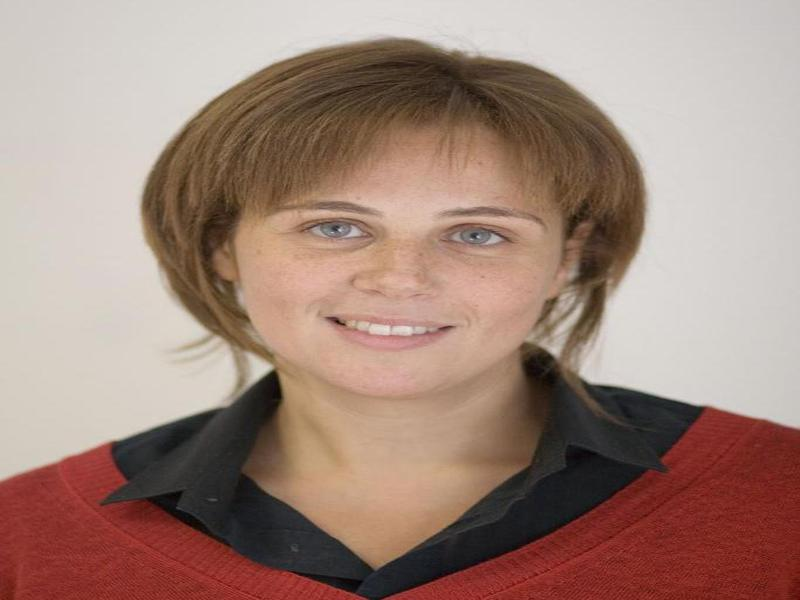person: (16, 41, 792, 600)
